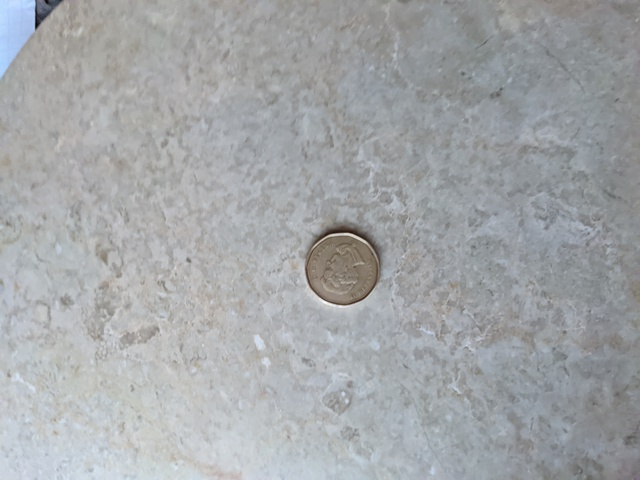loonie: (299, 220, 382, 304)
